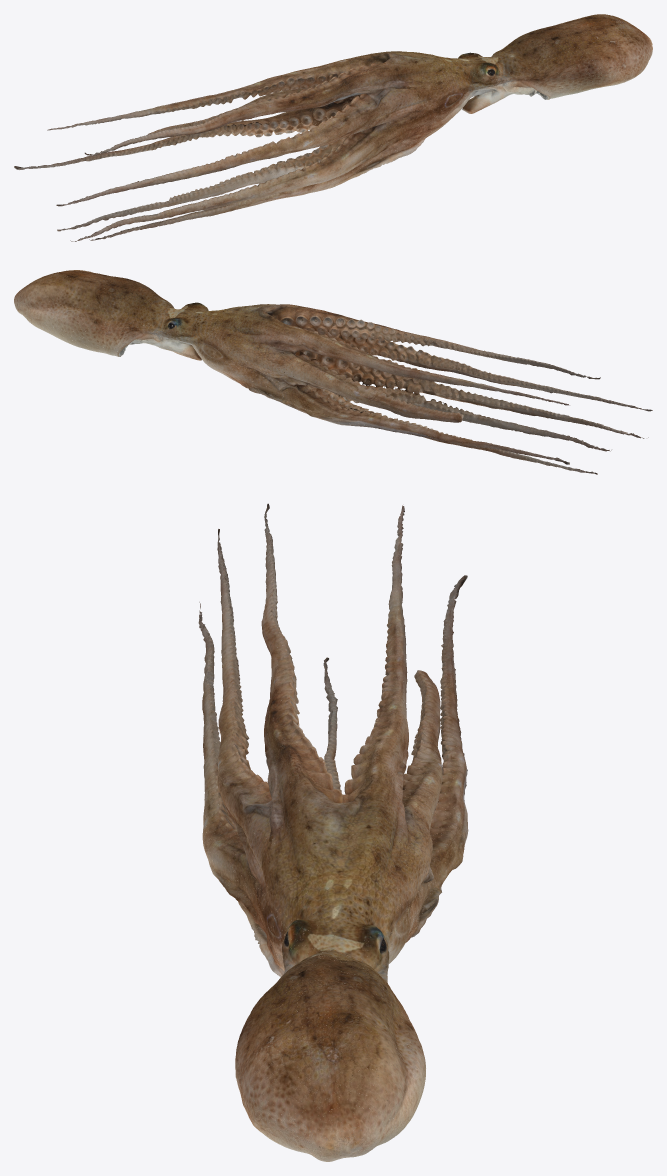
Rendered from octopus_ocellatus.glb.
3 renders of one model, top to bottom at view 1: azimuth 30°, elevation 25°; view 2: azimuth 150°, elevation 25°; view 3: azimuth 270°, elevation 25°, orthographic. The views are drawn at different scales.
Parts seen in each view (by area): view 1: Q11810-1all-3_5; view 2: Q11810-1all-3_5; view 3: Q11810-1all-3_5.
Boxes of the visible parts, x1,y1,x2,y2 form: Q11810-1all-3_5: (14,14,652,241); Q11810-1all-3_5: (14,270,652,474); Q11810-1all-3_5: (198,503,468,1161).
Bounding box in the file's own units: 14.43 × 2.17 × 2.78.
Materials: 2 (2 with a texture image).
